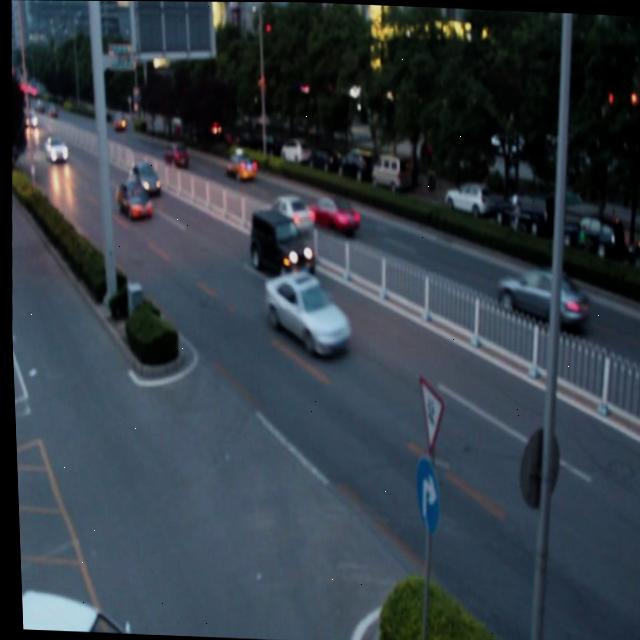car: (259, 270, 350, 355), (492, 264, 584, 327), (17, 584, 122, 633), (246, 215, 311, 275), (307, 194, 357, 234), (262, 196, 311, 231), (113, 184, 149, 217), (123, 162, 159, 195), (221, 152, 254, 180), (160, 142, 186, 167)
